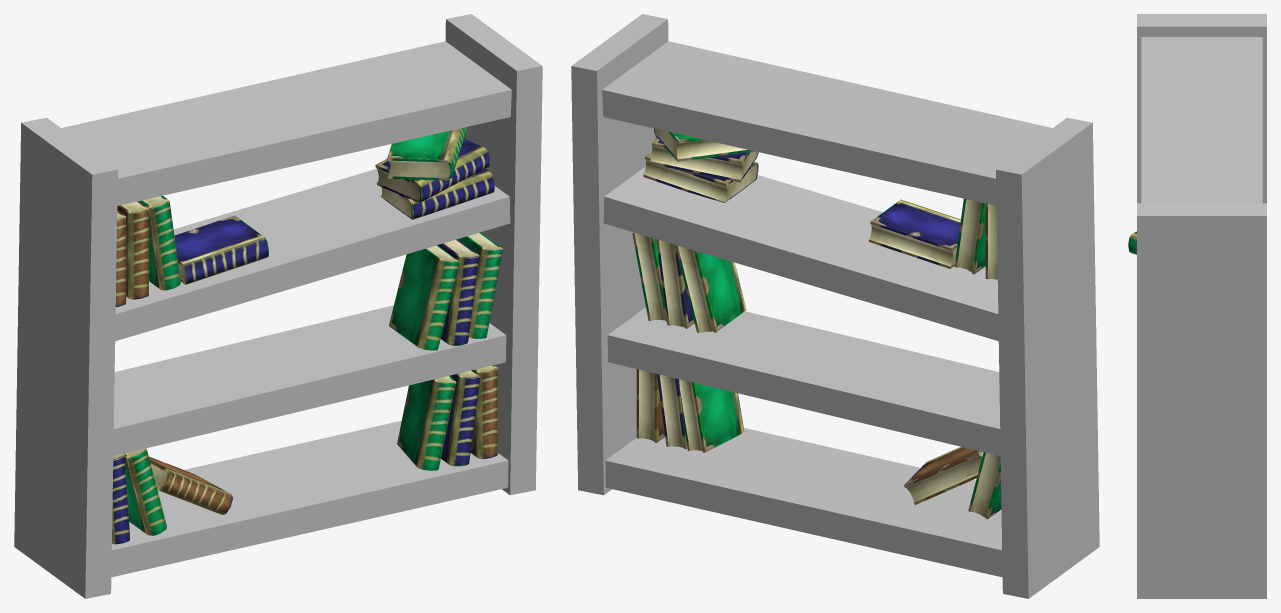
File: bookself.FBX
3 renders of one model, left to right at view 1: azimuth 30°, elevation 25°; view 2: azimuth 150°, elevation 25°; view 3: azimuth 270°, elevation 25°, orthographic. The views are drawn at different scales.
Visible parts, largest first — view 1: Box028; view 2: Box028; view 3: Box028.
Part boxes in pixels (x1=…): Box028: x1=14, y1=14, x2=542, y2=598; Box028: x1=571, y1=14, x2=1099, y2=598; Box028: x1=1128, y1=14, x2=1266, y2=598.
Bounding box in the file's own units: 43 × 38.07 × 12.36.
